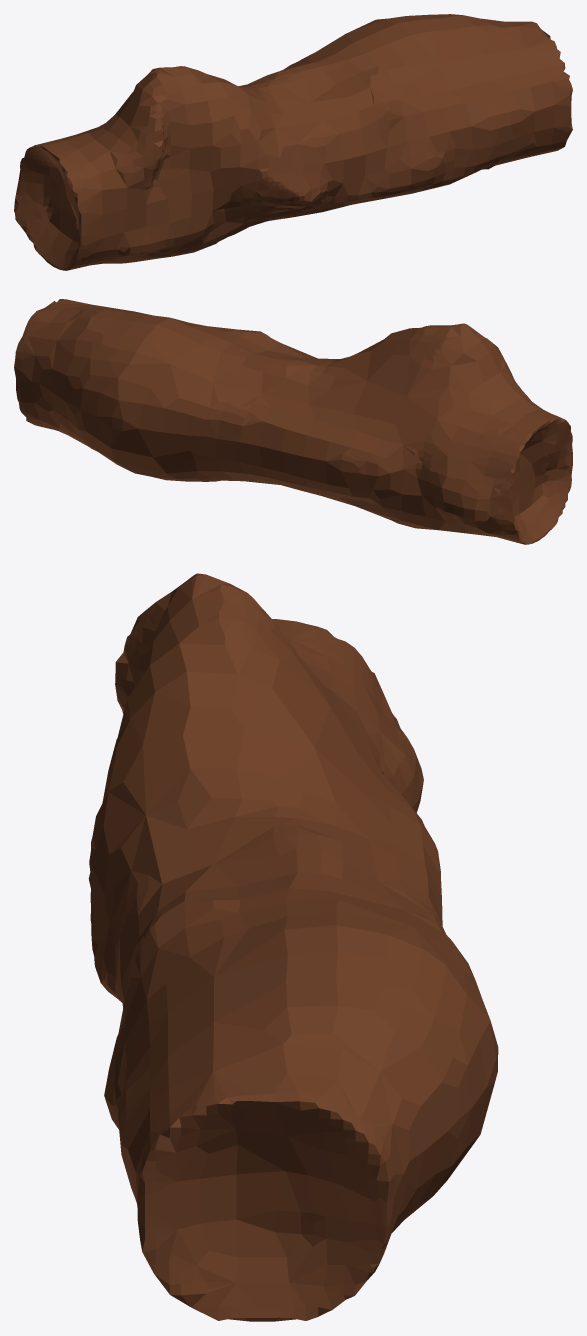
The model's file is log.fbx.
3 views of the same model, one above another, from view 1: azimuth 30°, elevation 25°; view 2: azimuth 150°, elevation 25°; view 3: azimuth 270°, elevation 25° (orthographic). The views are drawn at different scales.
Visible parts, largest first — view 1: Cube; view 2: Cube; view 3: Cube.
Boxes of the visible parts, x1=… form: Cube: x1=14, y1=14, x2=572, y2=270; Cube: x1=14, y1=299, x2=572, y2=544; Cube: x1=88, y1=573, x2=498, y2=1321.
Size of the model in its own units: 934 by 339 by 330.
